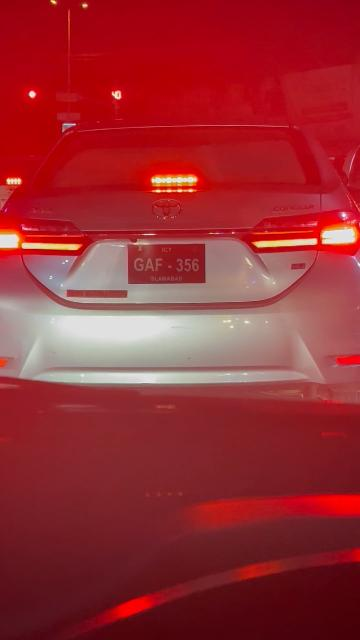plate: (126, 242, 205, 283)
